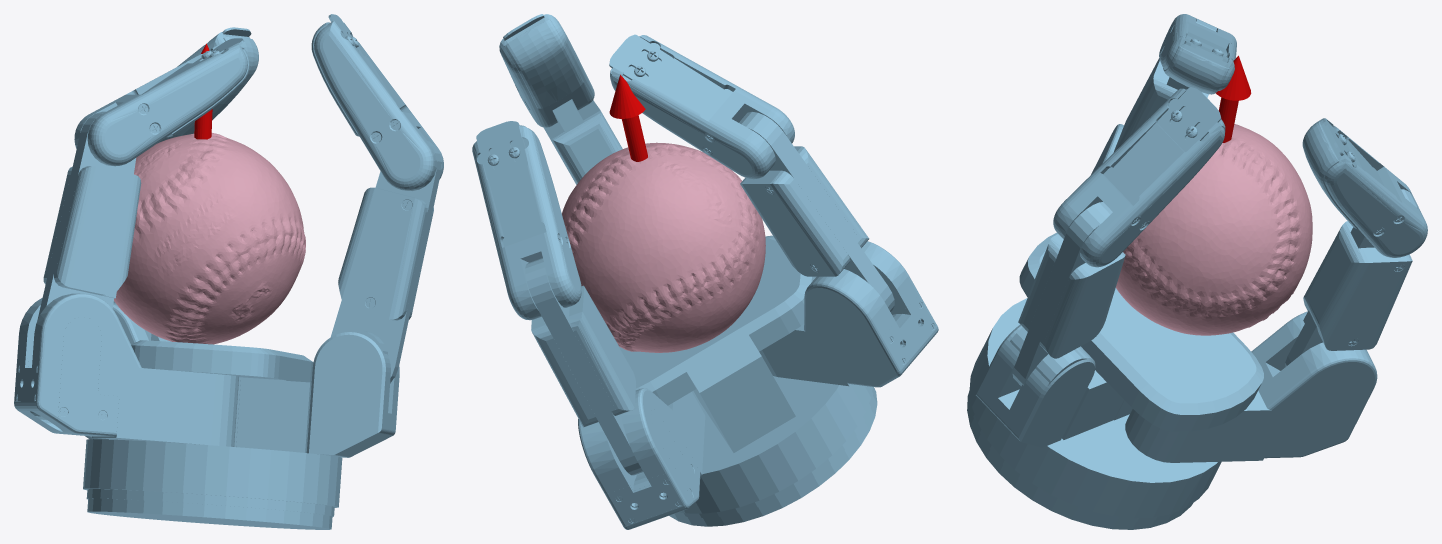
The picture shows the model from 3 angles, left to right: view 1: azimuth 30°, elevation 25°; view 2: azimuth 150°, elevation 25°; view 3: azimuth 270°, elevation 25°; orthographic projection. The views are drawn at different scales.
Parts seen in each view (by area): view 1: world, baseball.stl; view 2: world, baseball.stl; view 3: world, baseball.stl.
Boxes of the visible parts, box(x1,y1,x2,y2) form: world: box(14, 14, 443, 529); baseball.stl: box(114, 133, 305, 344); world: box(472, 14, 938, 529); baseball.stl: box(562, 142, 765, 352); world: box(967, 14, 1427, 529); baseball.stl: box(1116, 124, 1312, 335).
Size of the model in its own units: 0.1643 by 0.1814 by 0.1547.
